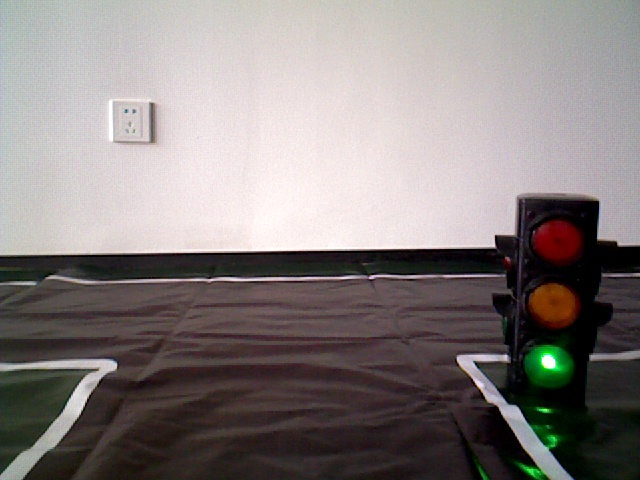green: (517, 208, 588, 396)
